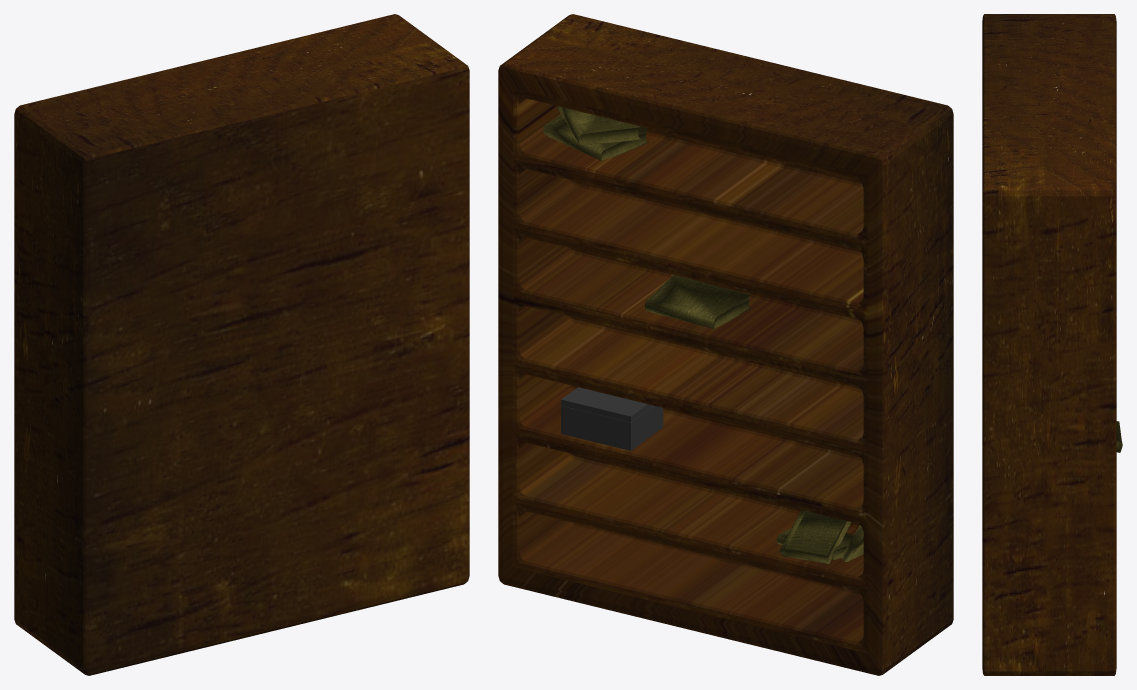
File: bookshelf2.fbx
3 views of the same model, side by side, from view 1: azimuth 30°, elevation 25°; view 2: azimuth 150°, elevation 25°; view 3: azimuth 270°, elevation 25° (orthographic). The views are drawn at different scales.
Visible parts, largest first — view 1: Cube; view 2: Cube; view 3: Cube.
Boxes of the visible parts, x1,y1,x2,y2 form: Cube: (14,14,469,675); Cube: (498,14,953,675); Cube: (982,14,1122,675).
Size of the model in its own units: 307 by 395 by 103.
3 materials, 2 textured.
